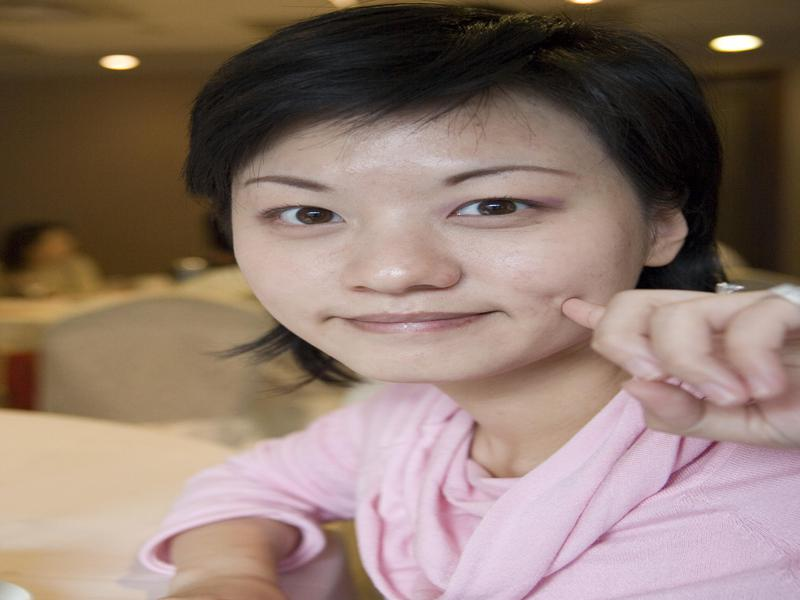person: (155, 1, 793, 600)
